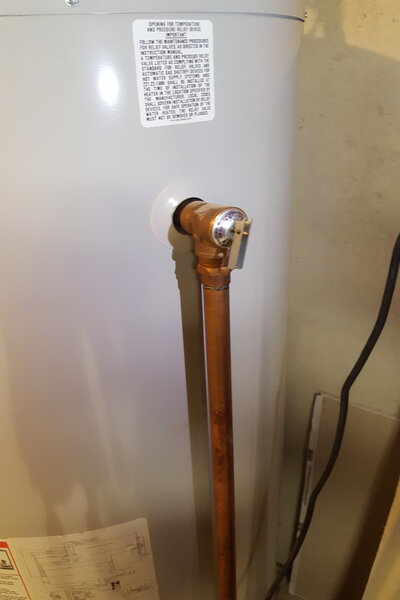valve: (172, 197, 249, 297)
